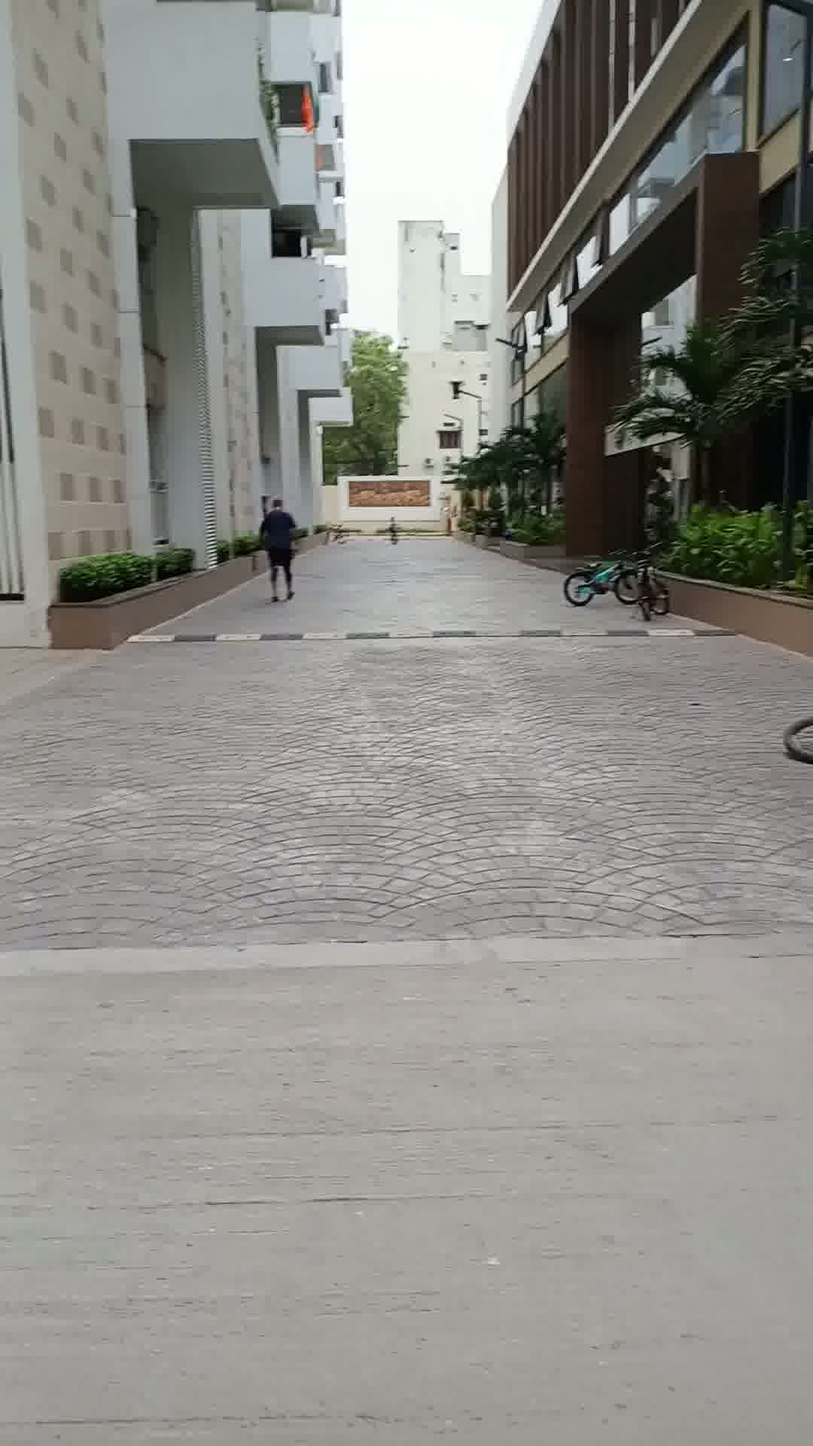bicycle: (557, 541, 688, 625)
person: (239, 475, 322, 615)
tree: (628, 305, 767, 570), (728, 210, 813, 573), (441, 407, 595, 518)
